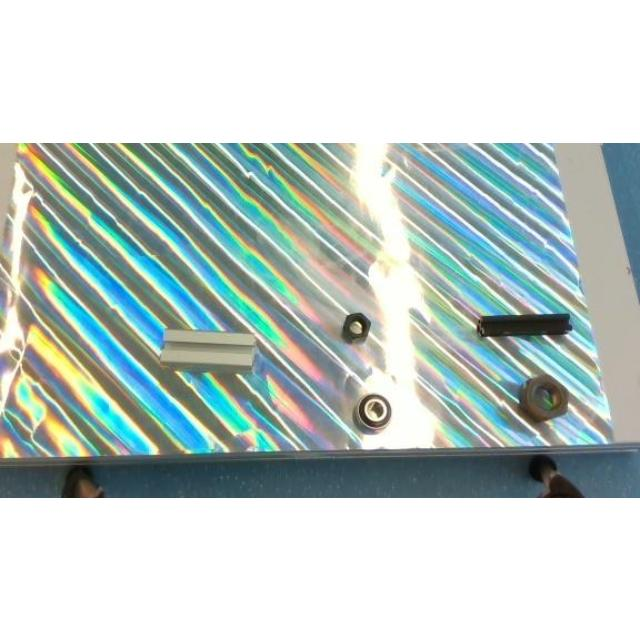Bearing2: (353, 393, 391, 433)
F20_20_B: (476, 312, 572, 336)
M20: (342, 312, 371, 342)
M30: (518, 373, 568, 422)
S40_40_G: (160, 328, 256, 372)
